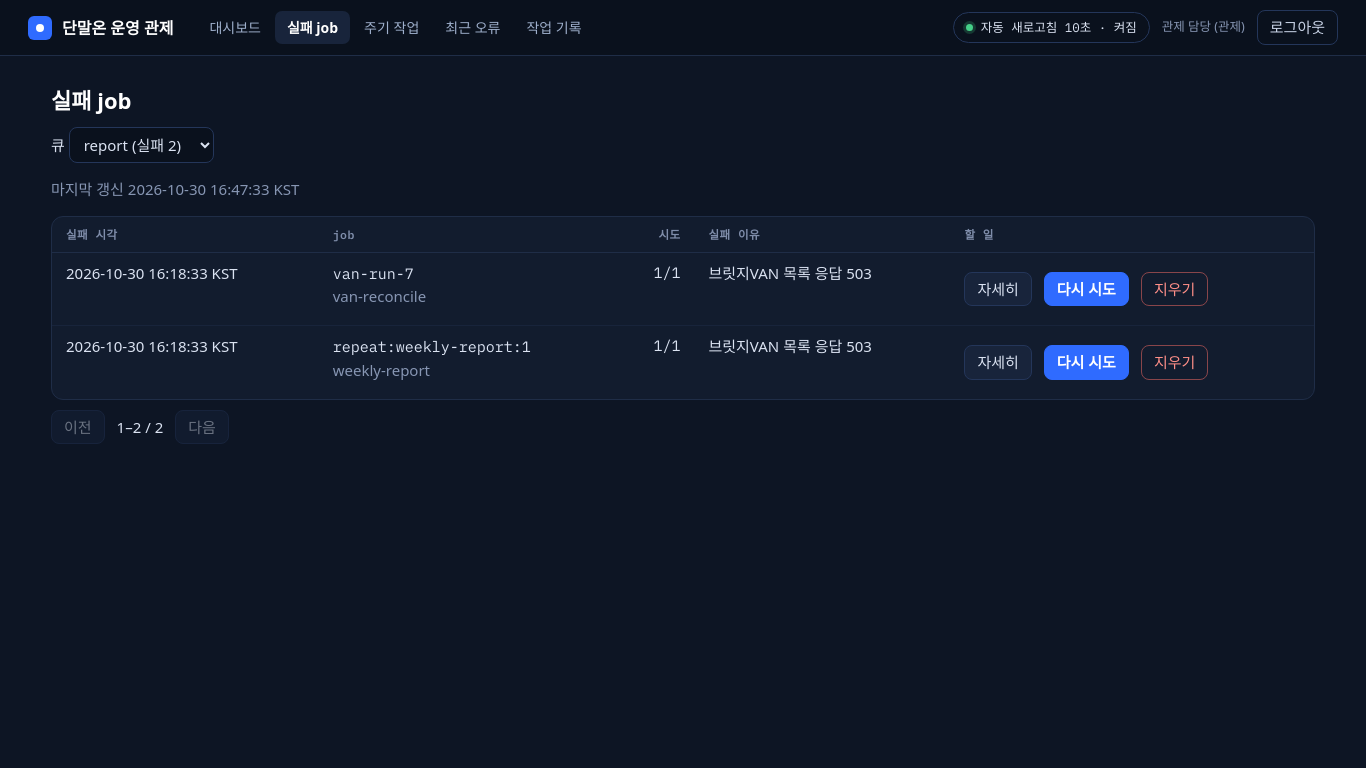
Scenario: 실패 job (보강 6, decisions/0072) › 큐를 고르지 않으면 실패가 있는 첫 큐를 보이고, 실패 시각·job·시도·이유, 자세히는 가린 data
Expected: the text "van-run-7" is shown, left=333, top=264, right=414, bottom=283
Expected: the dropdown labelled "큐" shows "report (실패 2)", left=69, top=127, right=214, bottom=163
What coordinates should you click on to do the following:
click the button "자세히" in the row of "van-run-7"
I would click on:
 (998, 289)
Its box is left=964, top=272, right=1032, bottom=306.
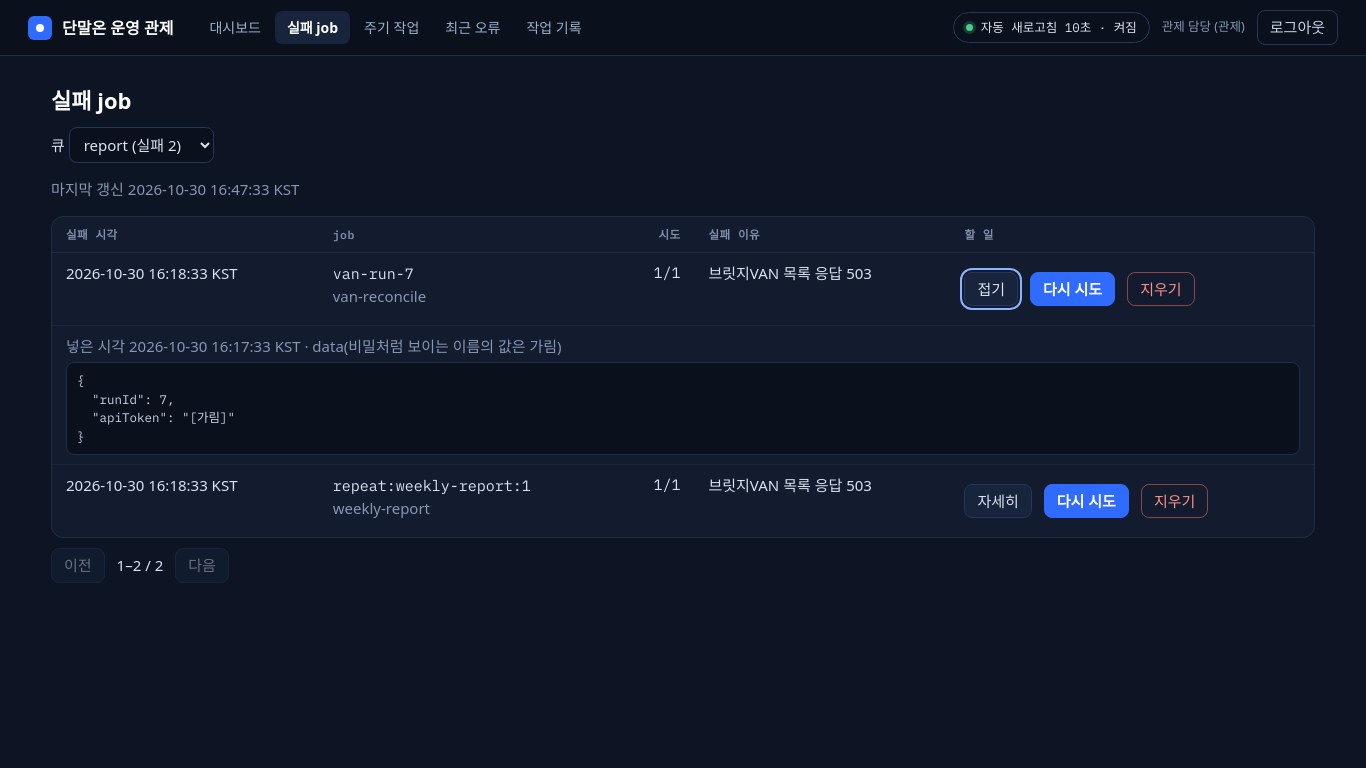
Expected: the text "1–2 / 2" is shown, left=117, top=554, right=163, bottom=577
Expected: the text "{ \"runId\": 7, \"apiToken\": \"[가림]\" }" is shown, left=66, top=362, right=1300, bottom=455
